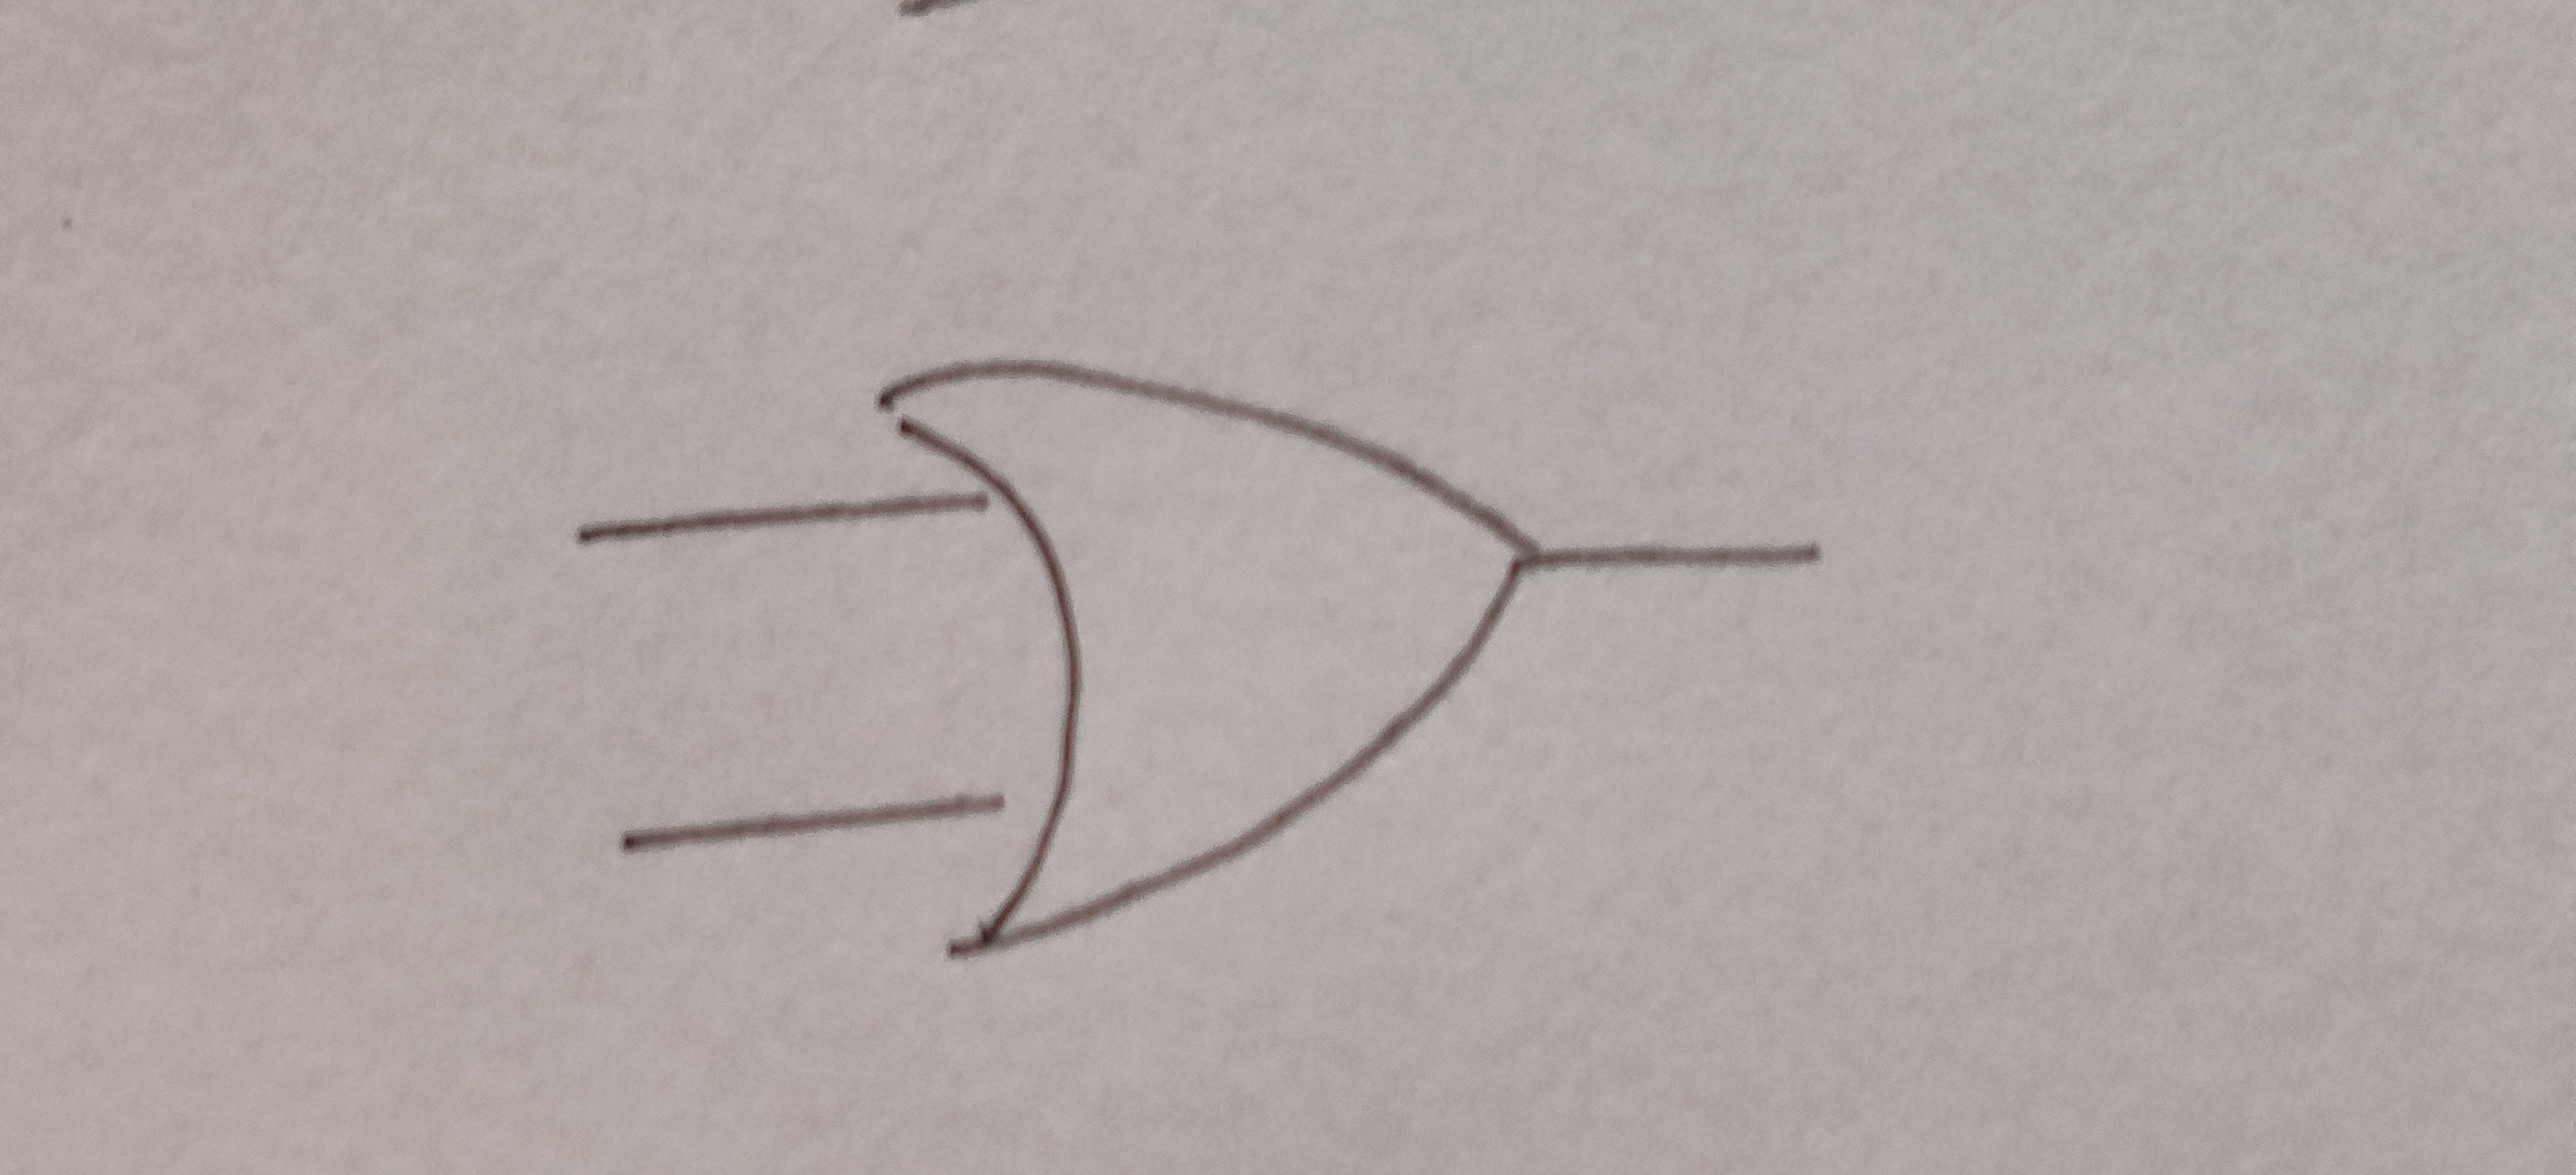or: (877, 360, 1531, 956)
